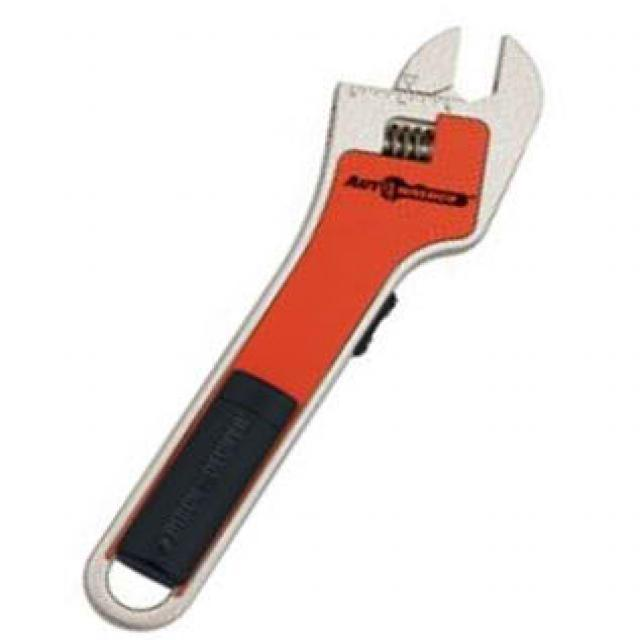wrench: (76, 19, 552, 634)
